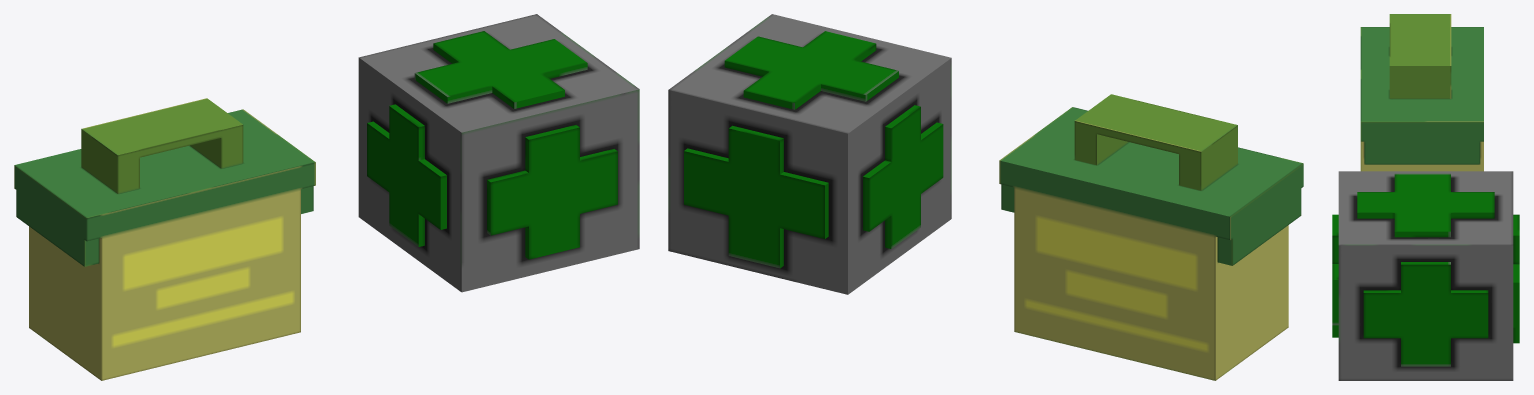
The model's file is Ammo_and_health.fbx.
The picture shows the model from 3 angles, left to right: view 1: azimuth 30°, elevation 25°; view 2: azimuth 150°, elevation 25°; view 3: azimuth 270°, elevation 25°; orthographic projection. The views are drawn at different scales.
Visible parts, largest first — view 1: Untitled, Untitled.001; view 2: Untitled, Untitled.001; view 3: Untitled.001, Untitled.
Boxes of the visible parts, x1,y1,x2,y2 form: Untitled: [14, 98, 315, 380]; Untitled.001: [358, 14, 639, 292]; Untitled: [999, 94, 1303, 380]; Untitled.001: [668, 14, 951, 294]; Untitled.001: [1332, 171, 1519, 380]; Untitled: [1360, 14, 1483, 171].
Size of the model in its own units: 859 by 308 by 300.
